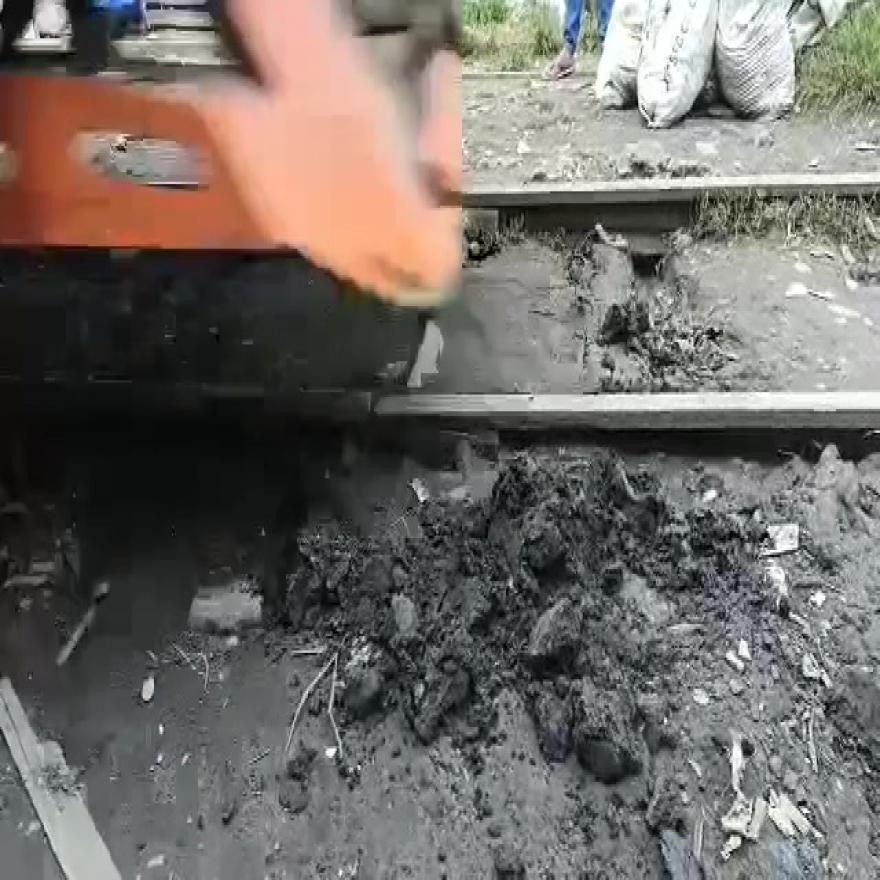railway-gap: (337, 360, 400, 450)
